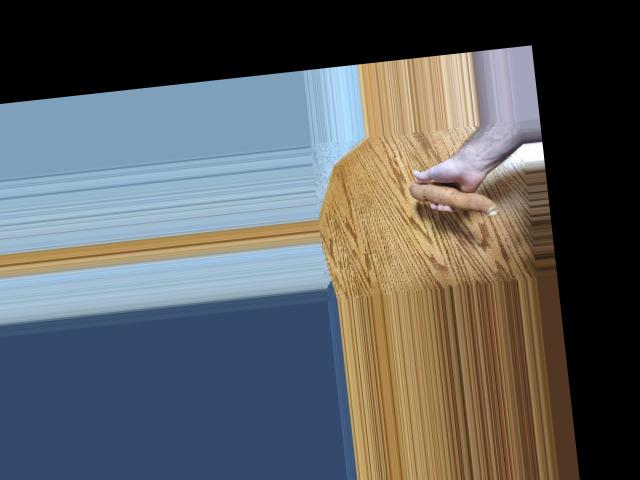sweet_potato: (408, 172, 500, 223)
